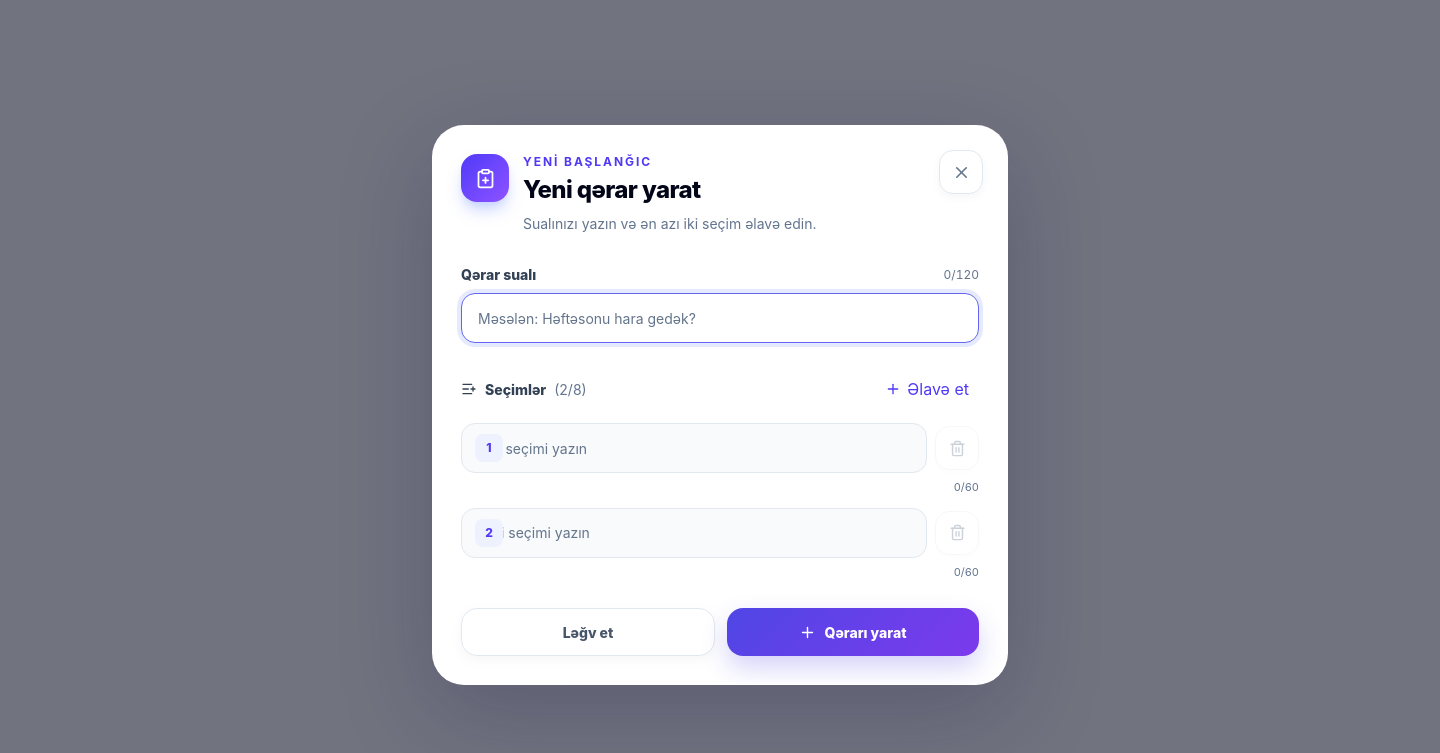
Test: DecisionForm › caps decisions at eight options
Step 1. Click the button with aria-label "Seçim əlavə et" → (927, 389), box [875, 367, 979, 411]
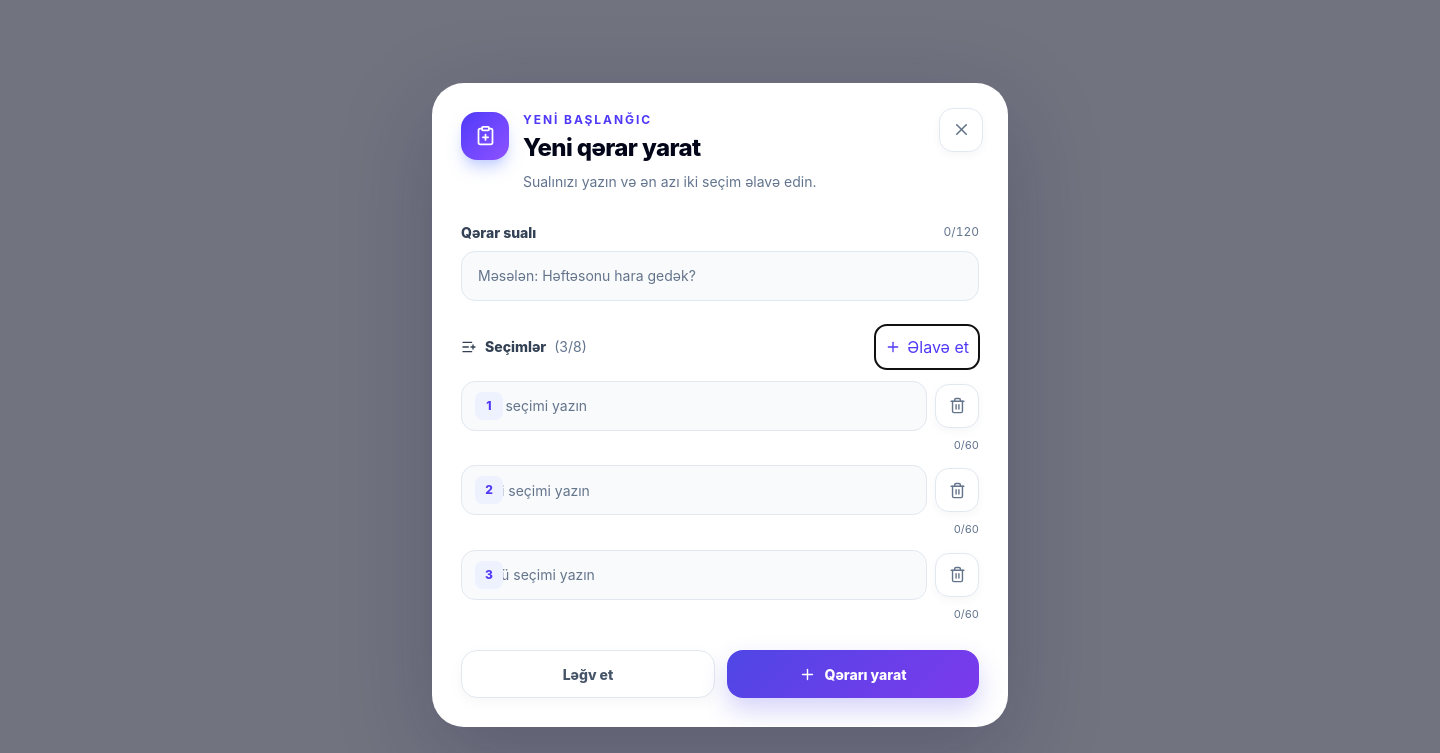
Step 2. Click the button with aria-label "Seçim əlavə et" → (927, 347), box [875, 325, 979, 369]
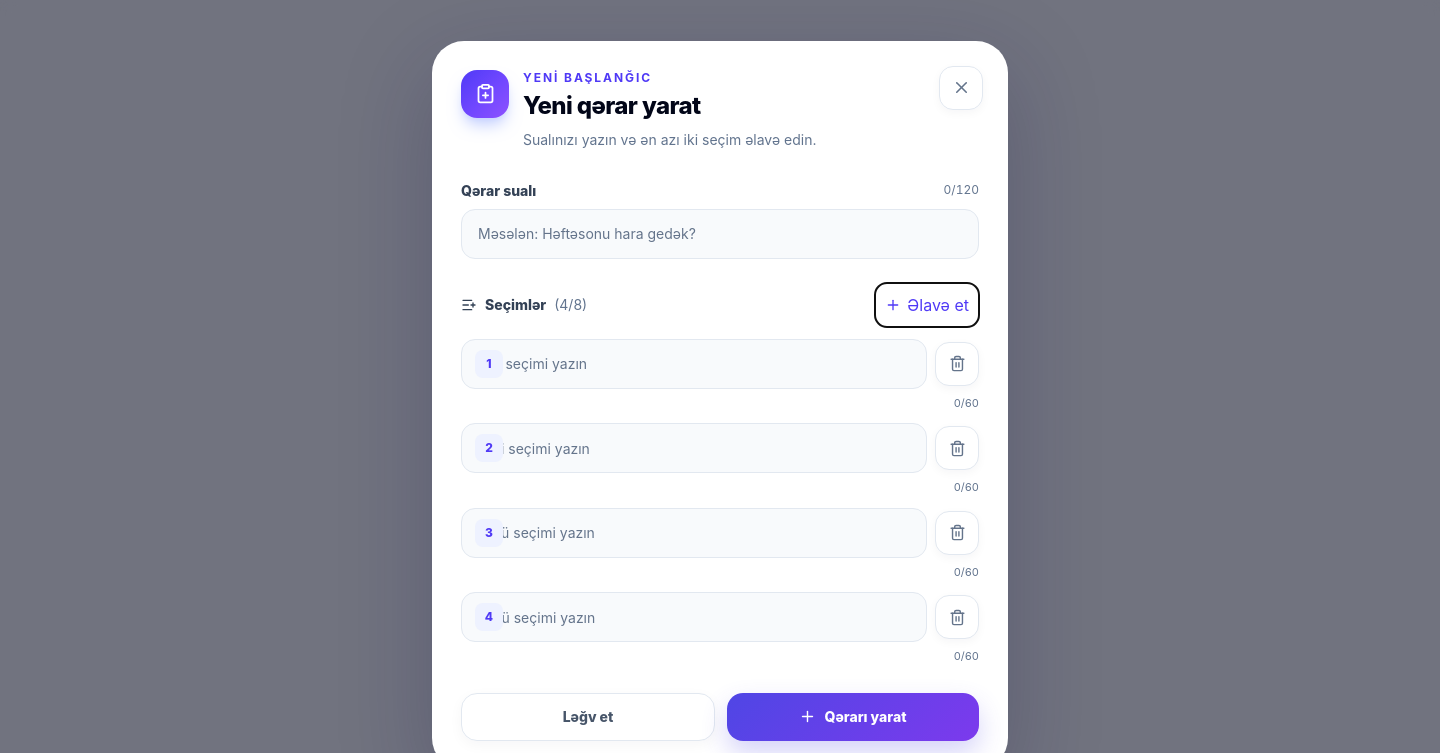
Step 3. Click the button with aria-label "Seçim əlavə et" → (927, 304), box [875, 282, 979, 326]
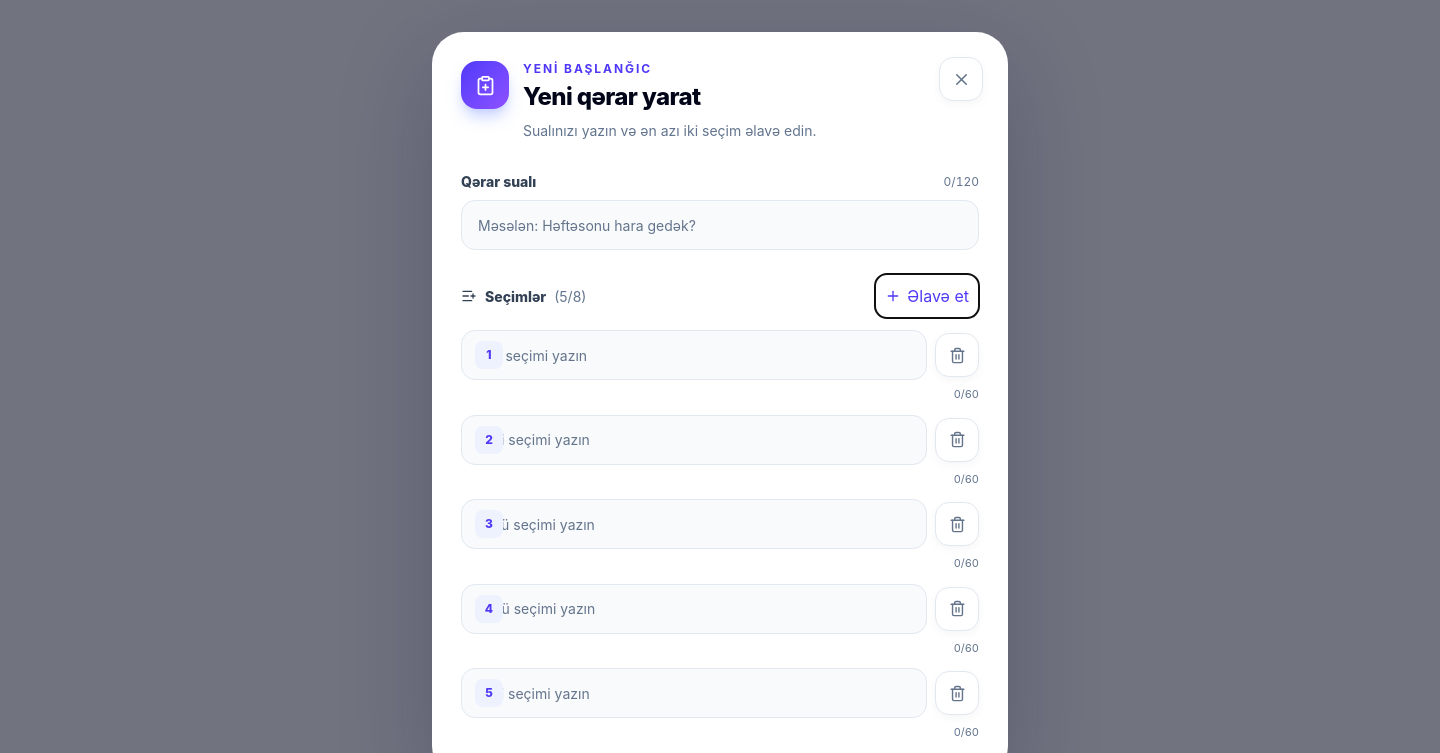
Step 4. Click the button with aria-label "Seçim əlavə et" → (927, 296), box [875, 274, 979, 318]
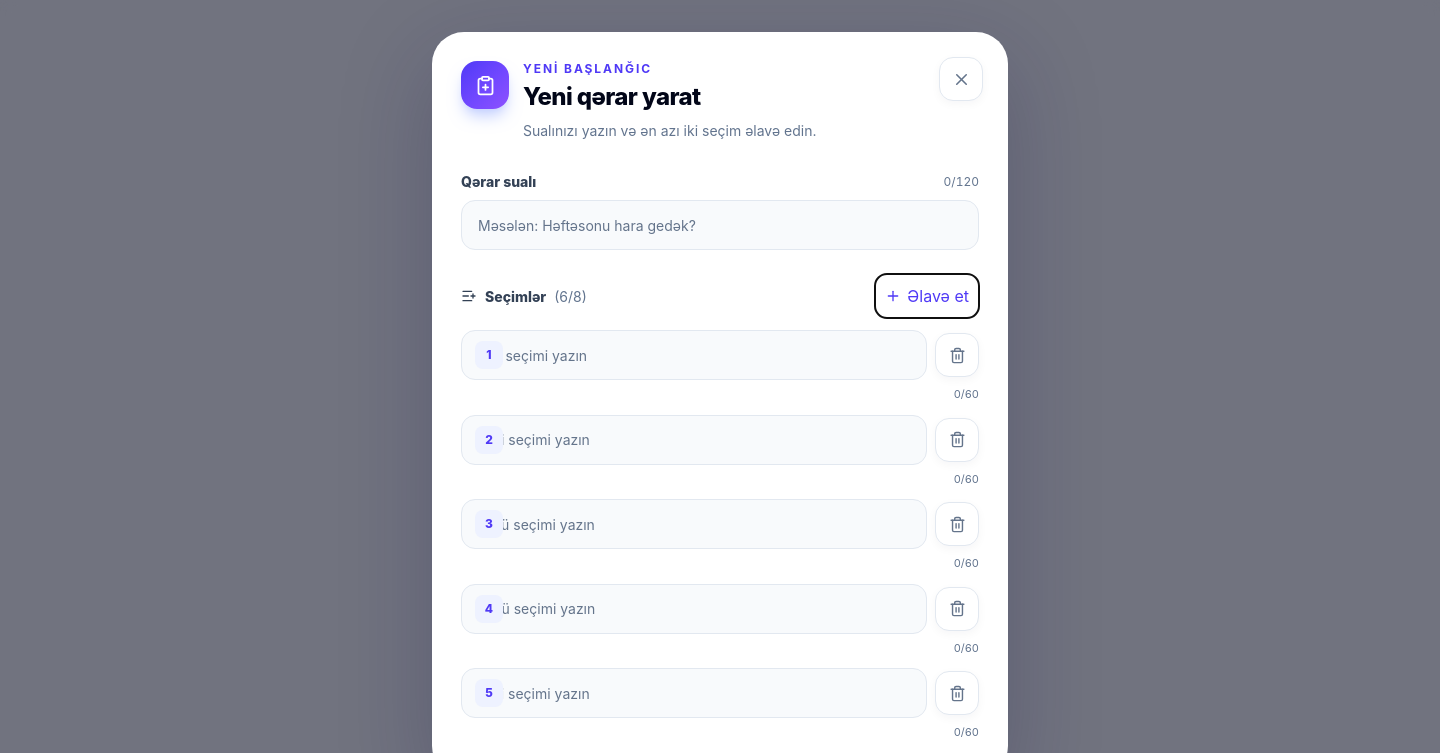
Step 5. Click the button with aria-label "Seçim əlavə et" → (927, 296), box [875, 274, 979, 318]
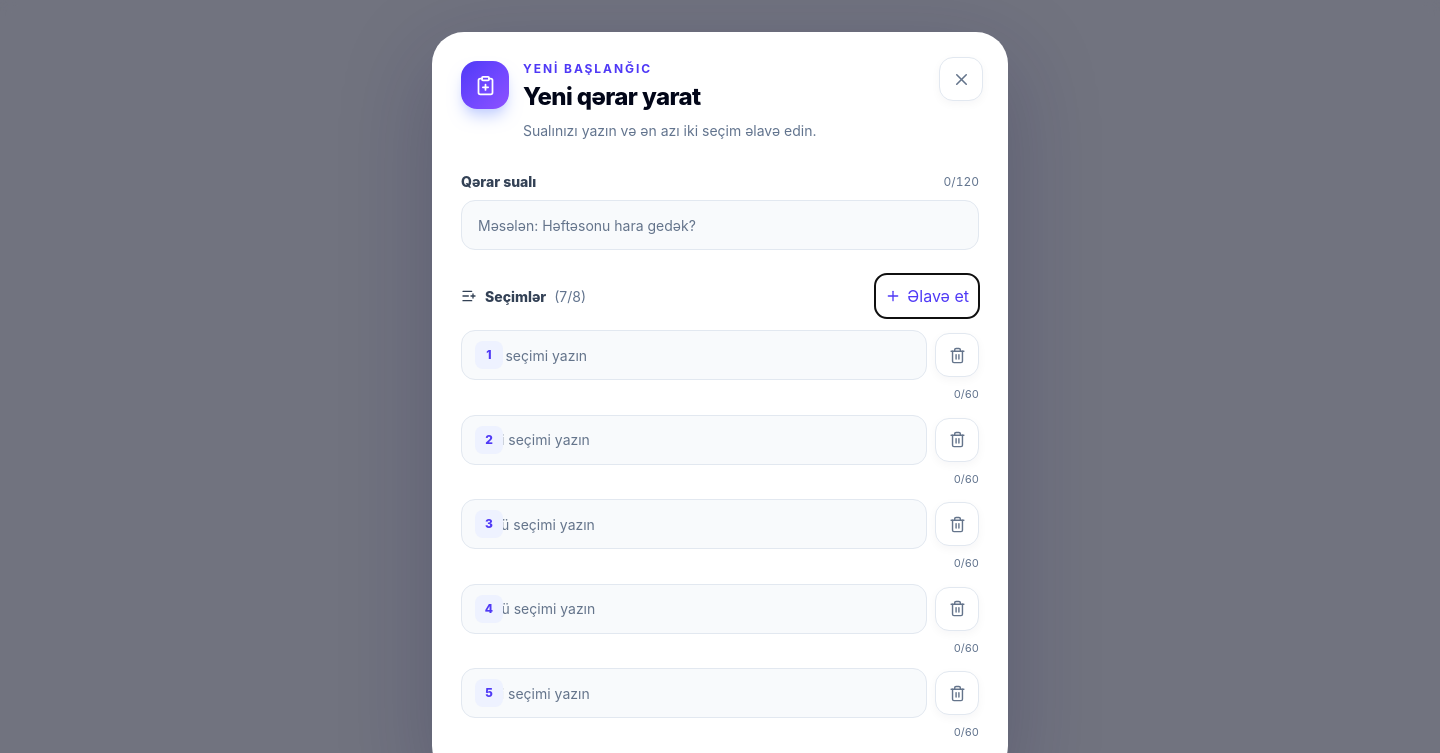
Step 6. Click the button with aria-label "Seçim əlavə et" → (927, 296), box [875, 274, 979, 318]
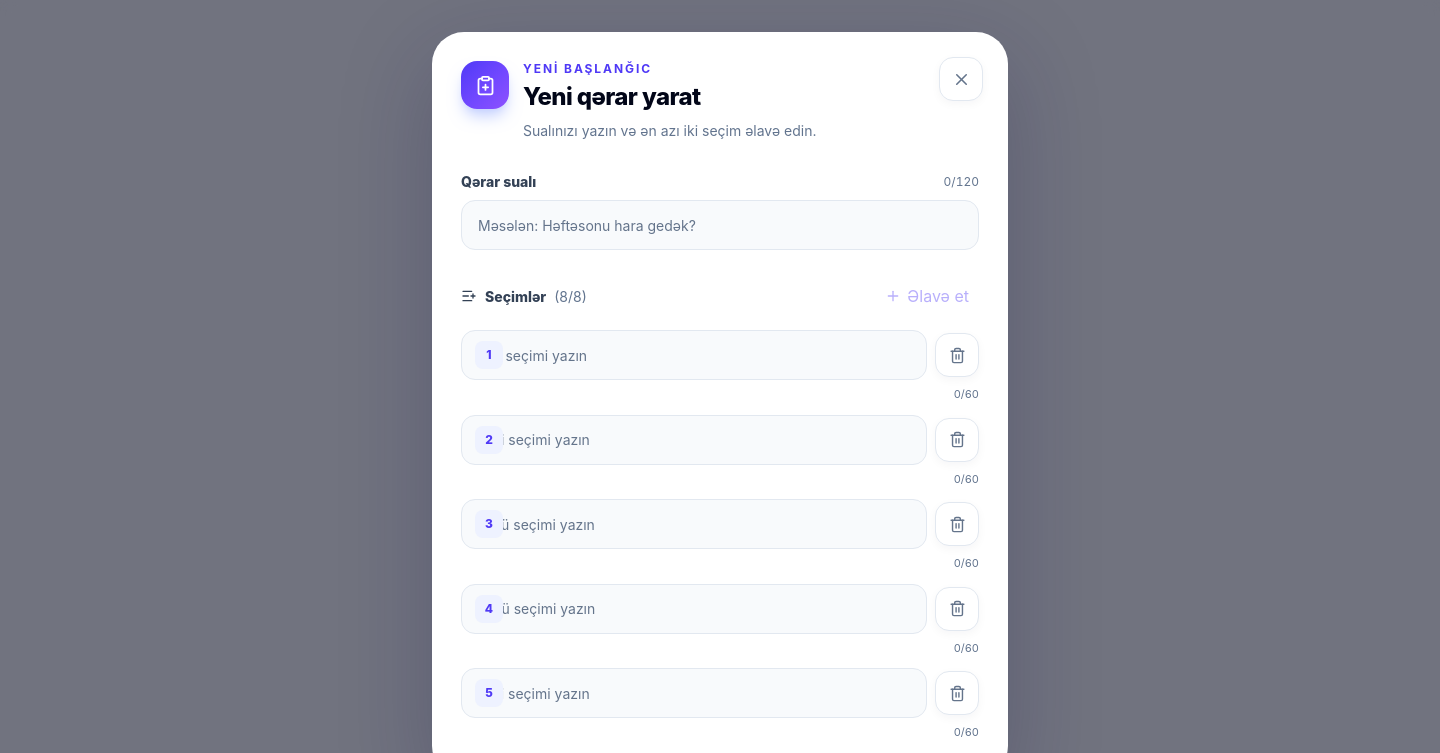
Now the number of fields labelled "1-ci seçimi yazın" is 8
Now the button with aria-label "Seçim əlavə et" is disabled, box [875, 274, 979, 318]
